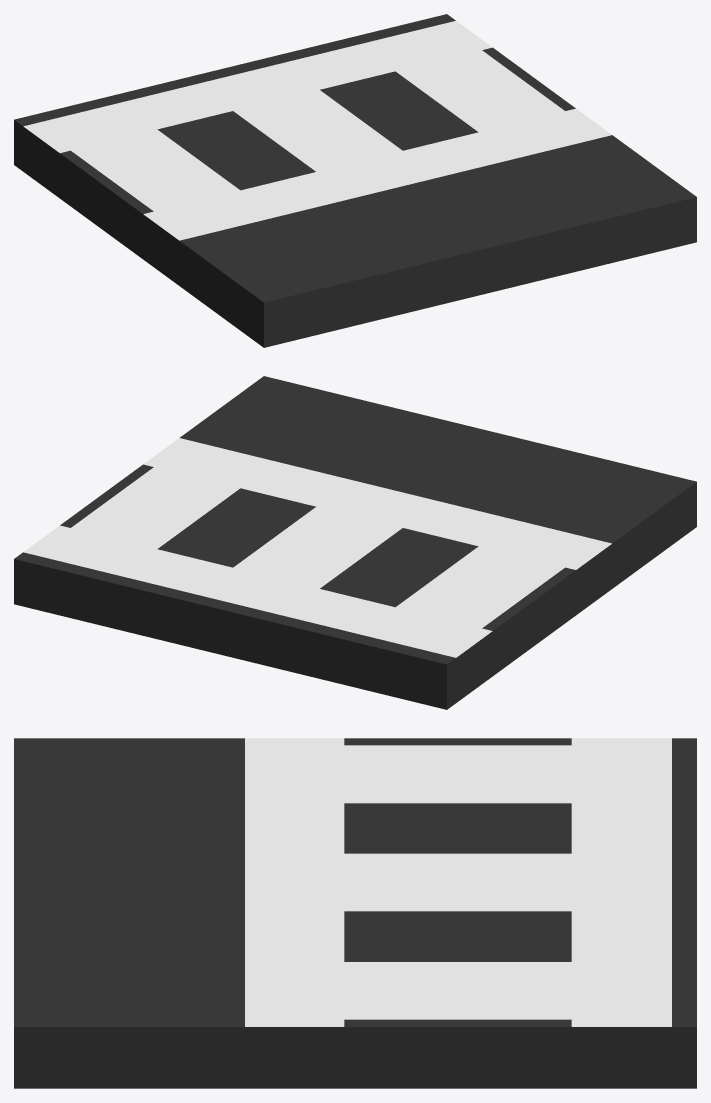
Rendered from Mod_TileRoad_06.fbx.
The picture shows the model from 3 angles, top to bottom: view 1: azimuth 30°, elevation 25°; view 2: azimuth 150°, elevation 25°; view 3: azimuth 270°, elevation 25°; orthographic projection. The views are drawn at different scales.
Visible parts, largest first — view 1: Mod_TileRoad_06; view 2: Mod_TileRoad_06; view 3: Mod_TileRoad_06.
Boxes of the visible parts, x1,y1,x2,y2 form: Mod_TileRoad_06: (14, 14, 696, 347); Mod_TileRoad_06: (14, 376, 696, 709); Mod_TileRoad_06: (14, 738, 696, 1088).
Bounding box in the file's own units: 100 × 10 × 100.
